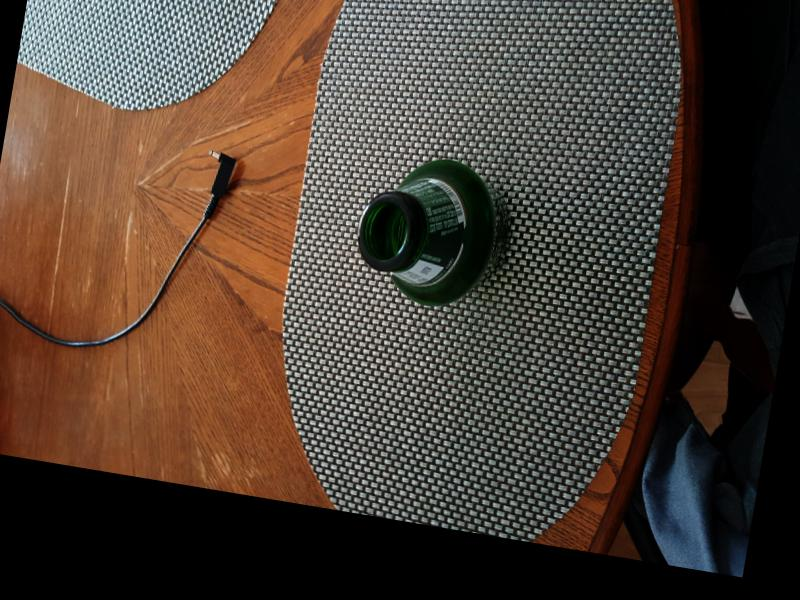Beer: (351, 153, 518, 308)
